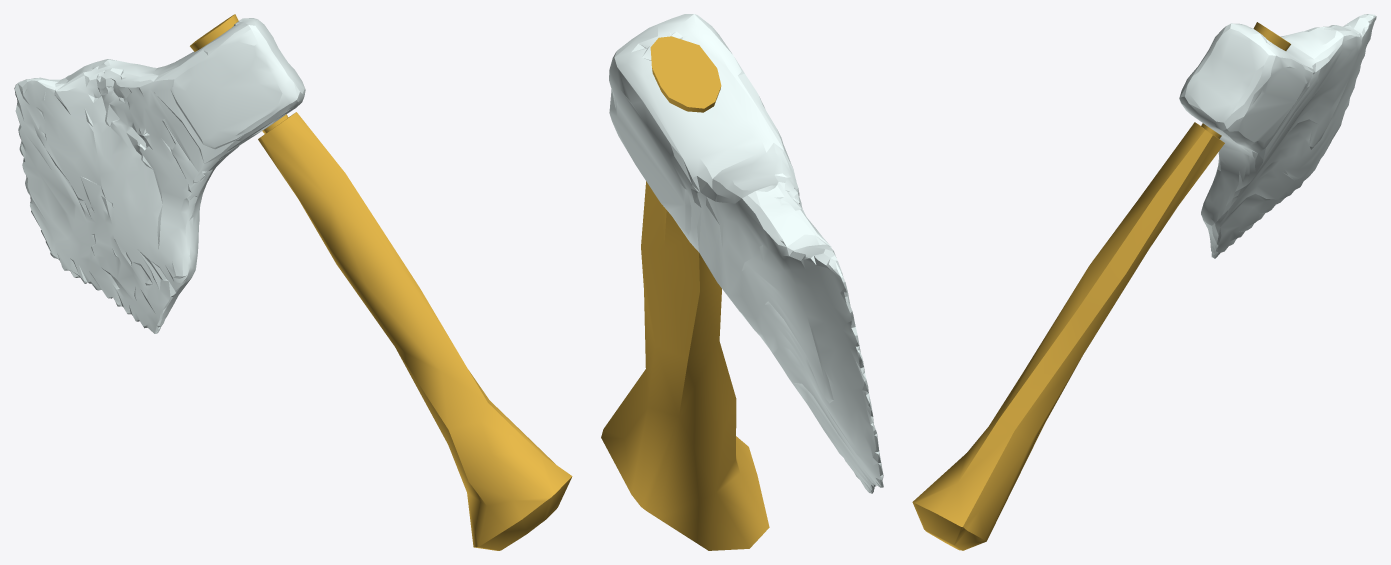
Rendered from axe-iron-79.glb.
The picture shows the model from 3 angles, left to right: view 1: azimuth 30°, elevation 25°; view 2: azimuth 150°, elevation 25°; view 3: azimuth 270°, elevation 25°; orthographic projection. The views are drawn at different scales.
Parts seen in each view (by area): view 1: iron-axe-head, iron-axe; view 2: iron-axe-head, iron-axe; view 3: iron-axe-head, iron-axe.
Part boxes in pixels (bbox=[...]): iron-axe-head: bbox=[14, 18, 305, 333]; iron-axe: bbox=[190, 14, 572, 550]; iron-axe-head: bbox=[609, 14, 883, 493]; iron-axe: bbox=[601, 36, 769, 550]; iron-axe-head: bbox=[1179, 14, 1376, 258]; iron-axe: bbox=[912, 22, 1290, 550].
Bounding box in the file's own units: 0.7025 × 0.865 × 0.7781.
